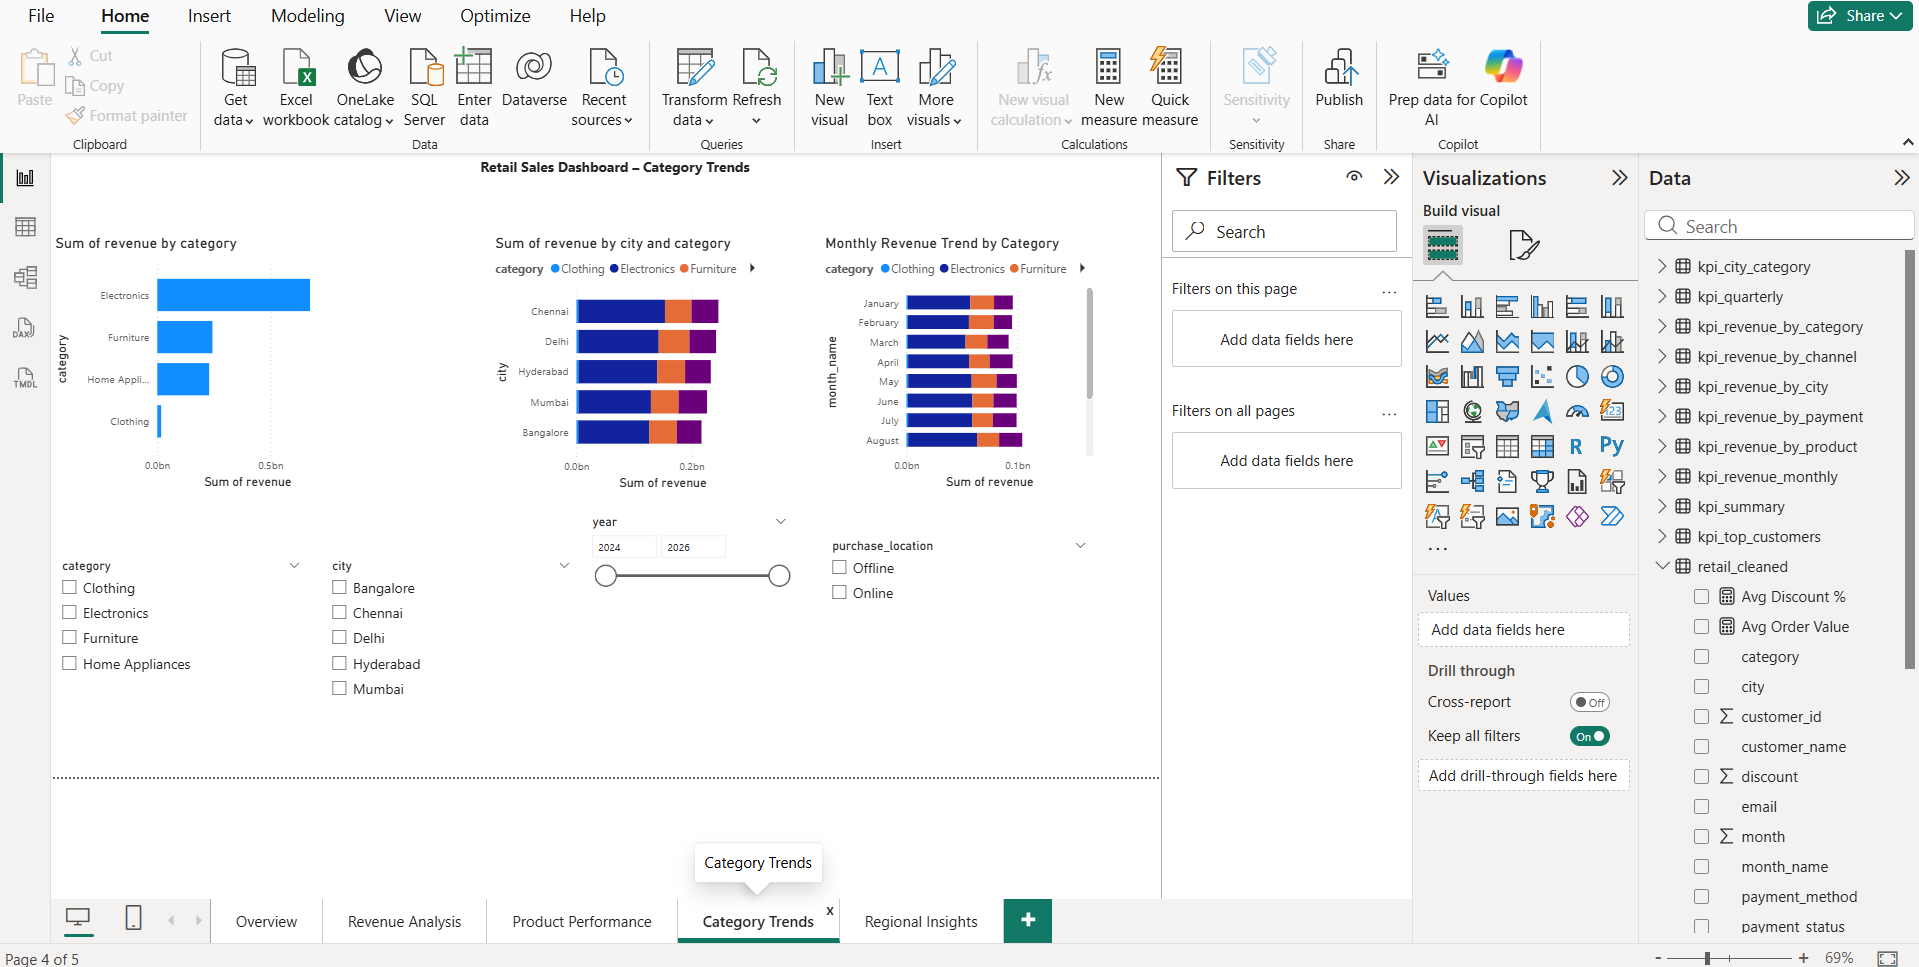

The page's visual inventory and layout, read from the dashboard file:
{"tool":"powerbi","page":{"name":"Category Trends","canvas":[1280,720],"ordinal":3},"visuals":[{"type":"textbox","box":[489.9,0,336.2,93.3],"z":0},{"type":"clusteredBarChart","fields":{"Category":["retail_cleaned.category"],"Y":["Sum(retail_cleaned.revenue)"]},"box":[0,93.7,351.8,298.4],"z":1000},{"type":"barChart","fields":{"Category":["retail_cleaned.city"],"Y":["Sum(retail_cleaned.revenue)"],"Series":["retail_cleaned.category"]},"box":[507.7,93.3,318.4,299.1],"z":2000},{"type":"slicer","fields":{"Values":["retail_cleaned.category"]},"box":[0,462.8,299.9,237.9],"z":3000},{"type":"slicer","fields":{"Values":["retail_cleaned.city"]},"box":[311.4,462.8,299.9,237.9],"z":4000},{"type":"slicer","fields":{"Values":["retail_cleaned.year"]},"box":[612,411.7,249.7,289.5],"z":5000},{"type":"slicer","fields":{"Values":["retail_cleaned.purchase_location"]},"box":[888.1,439.7,318.6,271.1],"z":6000},{"type":"barChart","title":"Monthly Revenue Trend by Category","fields":{"Category":["retail_cleaned.month_name"],"Y":["Sum(retail_cleaned.revenue)"],"Series":["retail_cleaned.category"]},"box":[888,93,319,299],"z":7000}]}

Visuals, with their boxes on the page's 1280x720 design canvas (x1, y1, x2, y2). These are canvas units, not pixel positions in the 1919x967 screenshot, which may show the page scaled, cropped or inside an application window:
textbox: x1=490, y1=0, x2=826, y2=93
clusteredBarChart - retail_cleaned.category x Sum(retail_cleaned.revenue): x1=0, y1=94, x2=352, y2=392
barChart - retail_cleaned.city x Sum(retail_cleaned.revenue): x1=508, y1=93, x2=826, y2=392
slicer - retail_cleaned.category: x1=0, y1=463, x2=300, y2=701
slicer - retail_cleaned.city: x1=311, y1=463, x2=611, y2=701
slicer - retail_cleaned.year: x1=612, y1=412, x2=862, y2=701
slicer - retail_cleaned.purchase_location: x1=888, y1=440, x2=1207, y2=711
"Monthly Revenue Trend by Category" barChart: x1=888, y1=93, x2=1207, y2=392
